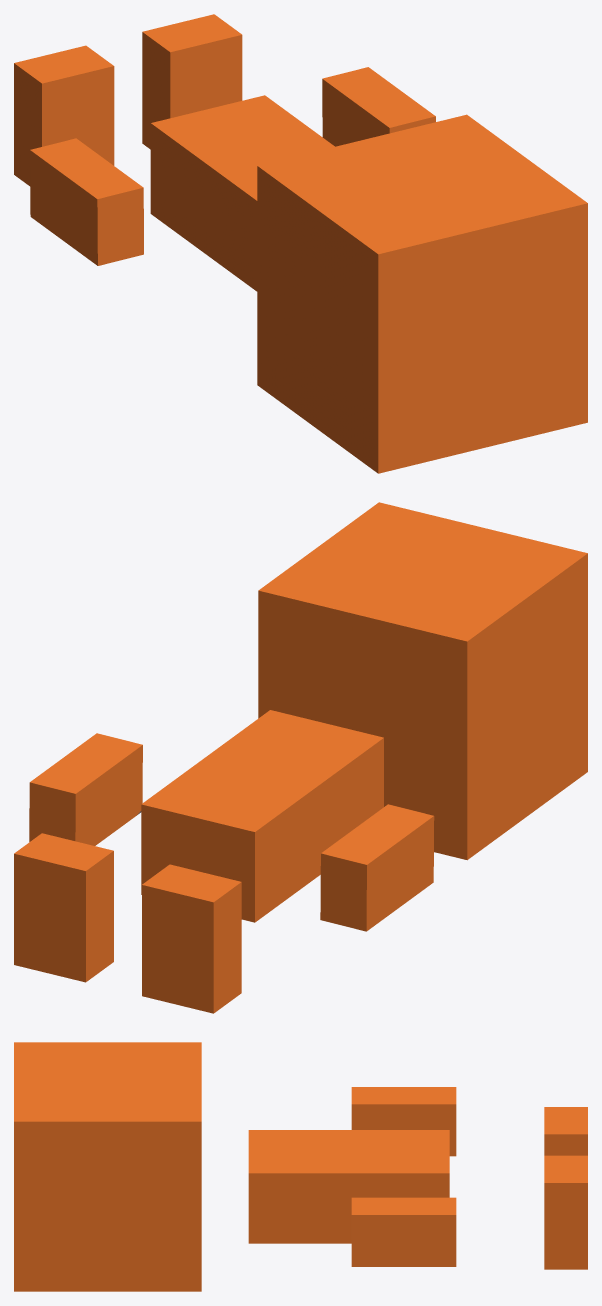
File: robot  3.0 orange.fbx
3 views of the same model, one above another, from view 1: azimuth 30°, elevation 25°; view 2: azimuth 150°, elevation 25°; view 3: azimuth 270°, elevation 25° (orthographic). The views are drawn at different scales.
Parts seen in each view (by area): view 1: node_id4, node_id5, node_id7, node_id9, node_id8, node_id6; view 2: node_id4, node_id5, node_id8, node_id9, node_id7, node_id6; view 3: node_id4, node_id5, node_id6, node_id8, node_id7, node_id9.
Boxes of the visible parts, left/top/right/bottom form: node_id4: left=257, top=114, right=587, bottom=473; node_id5: left=150, top=95, right=334, bottom=291; node_id7: left=30, top=138, right=143, bottom=265; node_id9: left=14, top=45, right=114, bottom=186; node_id8: left=142, top=14, right=242, bottom=149; node_id6: left=322, top=67, right=435, bottom=146; node_id4: left=258, top=502, right=587, bottom=860; node_id5: left=141, top=710, right=383, bottom=922; node_id8: left=14, top=833, right=113, bottom=982; node_id9: left=142, top=864, right=241, bottom=1013; node_id7: left=320, top=804, right=434, bottom=931; node_id6: left=29, top=733, right=142, bottom=845; node_id4: left=14, top=1042, right=201, bottom=1291; node_id5: left=248, top=1130, right=449, bottom=1243; node_id6: left=351, top=1197, right=456, bottom=1266; node_id8: left=544, top=1155, right=587, bottom=1269; node_id7: left=351, top=1087, right=456, bottom=1156; node_id9: left=544, top=1107, right=587, bottom=1155.
Size of the model in its own units: 0.2626 by 0.1624 by 0.4964.
6 materials, 6 textured.
